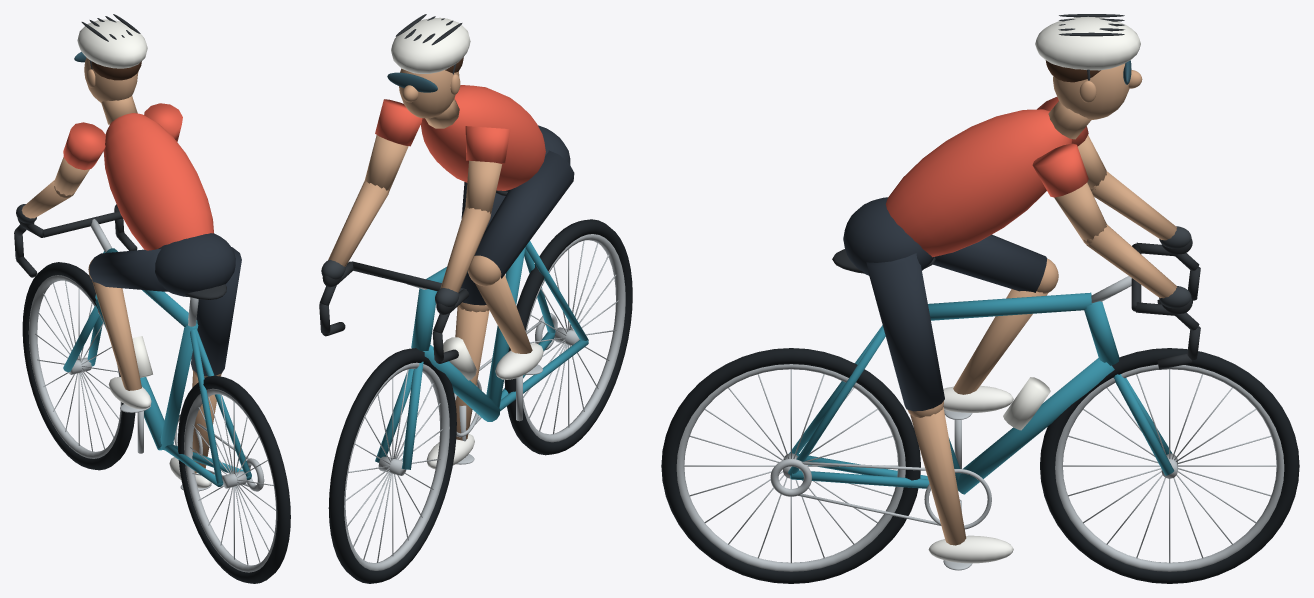
The model's file is road-cyclist.glb.
3 views of the same model, side by side, from view 1: azimuth 30°, elevation 25°; view 2: azimuth 150°, elevation 25°; view 3: azimuth 270°, elevation 25° (orthographic). The views are drawn at different scales.
Visible parts, largest first — view 1: JerseyTorso, RearTire, BibShortsPelvis, FrontTire, Thigh.001, HelmetShell, Thigh, Shin, FrontRim, RearRim, SeatTube, JerseySleeve (+18 smaller); view 2: JerseyTorso, FrontTire, RearTire, Thigh, HelmetShell, FrontRim, RearRim, Forearm.001, Forearm, Shin, Shin.001, Head (+21 smaller); view 3: JerseyTorso, RearTire, FrontTire, Thigh.001, FrontRim, RearRim, HelmetShell, Thigh, DownTube, BibShortsPelvis, Shin.001, TopTube (+16 smaller).
Boxes of the visible parts, x1,y1,x2,y2 form: JerseyTorso: [103, 113, 213, 250]; RearTire: [177, 375, 290, 583]; BibShortsPelvis: [155, 233, 235, 297]; FrontTire: [22, 262, 135, 470]; Thigh.001: [191, 247, 241, 376]; HelmetShell: [77, 19, 147, 68]; Thigh: [89, 249, 169, 291]; Shin: [92, 280, 141, 390]; FrontRim: [28, 275, 121, 458]; RearRim: [184, 388, 277, 572]; SeatTube: [160, 323, 198, 450]; JerseySleeve: [63, 122, 105, 170]; JerseyTorso: [420, 85, 545, 190]; FrontTire: [328, 348, 456, 583]; RearTire: [504, 219, 632, 455]; Thigh: [474, 150, 574, 278]; HelmetShell: [391, 17, 470, 73]; FrontRim: [344, 362, 449, 570]; RearRim: [523, 234, 625, 442]; Forearm.001: [328, 181, 388, 266]; Forearm: [440, 207, 490, 292]; Shin: [475, 275, 532, 353]; Shin.001: [455, 306, 489, 440]; Head: [399, 68, 459, 118]; JerseyTorso: [885, 109, 1072, 257]; RearTire: [661, 348, 920, 583]; FrontTire: [1040, 348, 1299, 583]; Thigh.001: [866, 253, 944, 411]; FrontRim: [1055, 364, 1284, 571]; RearRim: [676, 364, 905, 571]; HelmetShell: [1035, 16, 1140, 70]; Thigh: [932, 234, 1047, 292]; DownTube: [956, 358, 1114, 494]; BibShortsPelvis: [843, 197, 934, 275]; Shin.001: [910, 407, 966, 545]; TopTube: [928, 292, 1091, 320].
Bounding box in the file's own units: 0.444 × 1.67 × 1.72.
